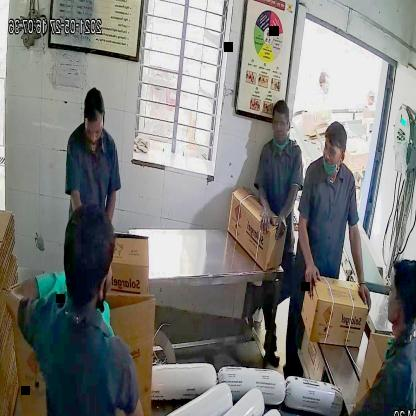no_goggles: (318, 141, 348, 166)
